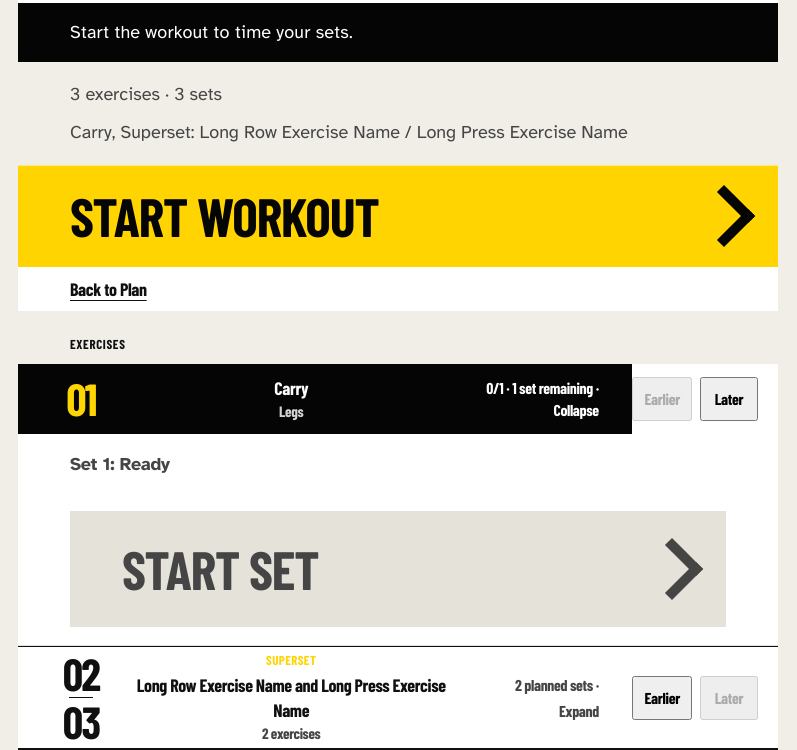
Scenario: keeps an expanded superset member with its occurrence across standalone moves in both directions
(page scrolled)
Step 1. Click the button with aria-label "Superset: Long Row Exercise Name and Long Press Exercise Nam" → click(325, 698), box [18,647,632,748]
(page scrolled)
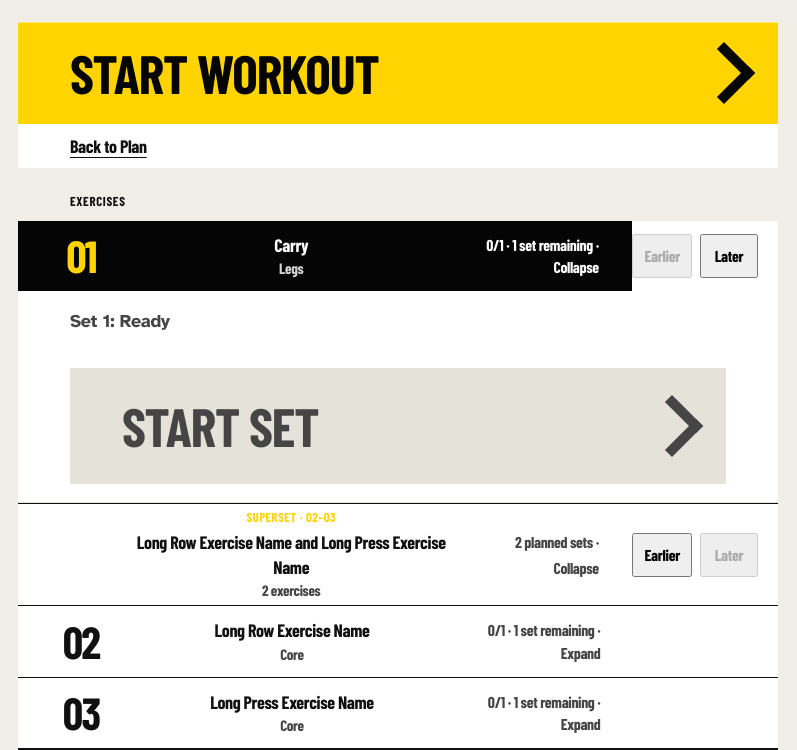
Step 2. Click the button with aria-label "Long Row Exercise Name, 0 of 1 confirmed, 1 set remaining, e" → click(326, 642), box [18,606,634,677]
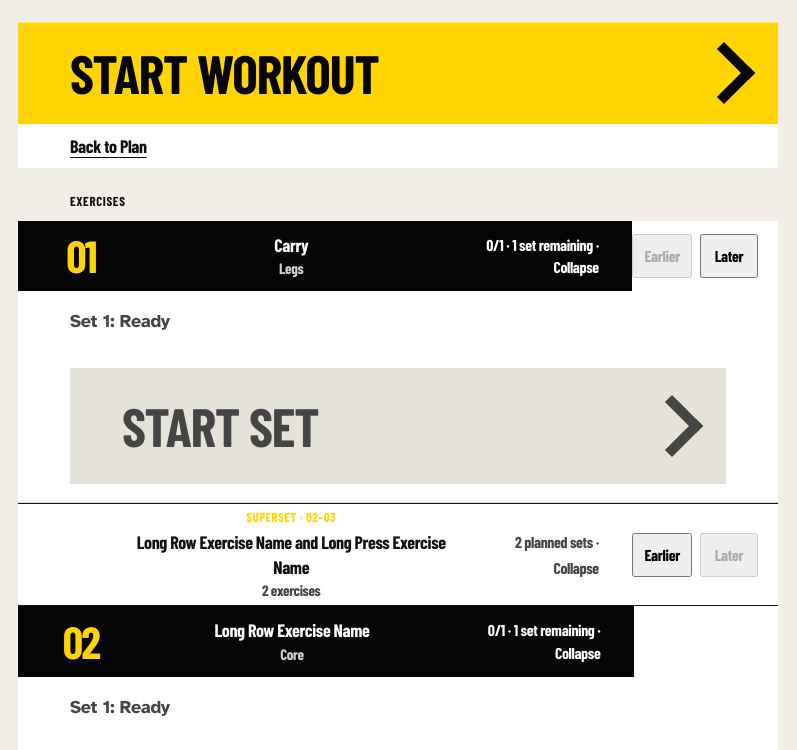
Result: the button with aria-label "Long Row Exercise Name, 0 of 1 confirmed, 1 set remaining, c" is expanded at [18,606,634,677]
Step 3. Click the button with aria-label "Move Carry later; position 1 of 2; available" → click(729, 256), box [700,234,758,278]
(page scrolled)
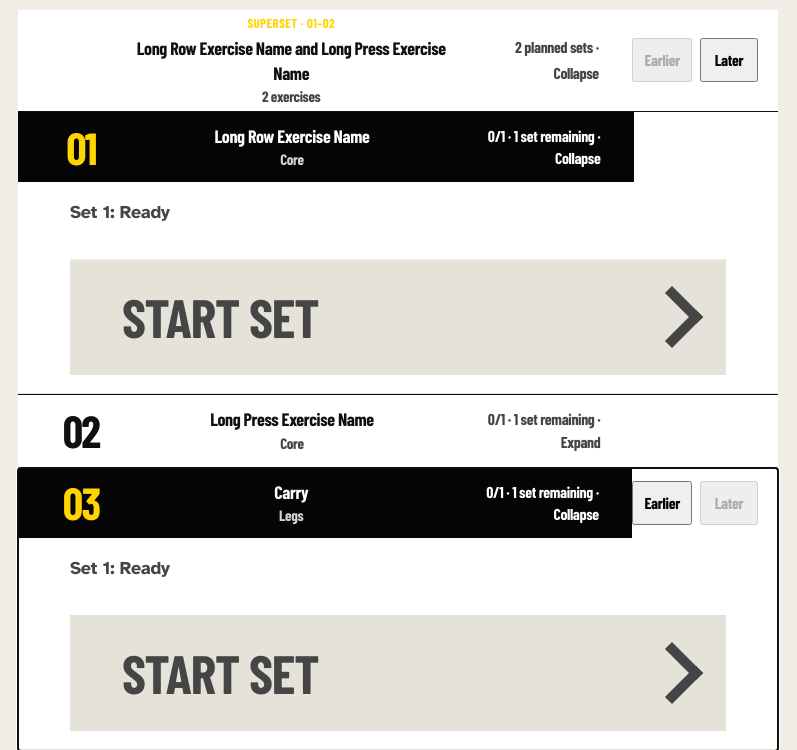
Result: the button with aria-label "Long Row Exercise Name, 0 of 1 confirmed, 1 set remaining, c" is expanded at [18,112,634,182]
Result: the button with aria-label "Move Carry earlier; position 2 of 2; available" is shown
Step 4. Click the button with aria-label "Move Carry earlier; position 2 of 2; available" → click(662, 503), box [632,481,692,525]
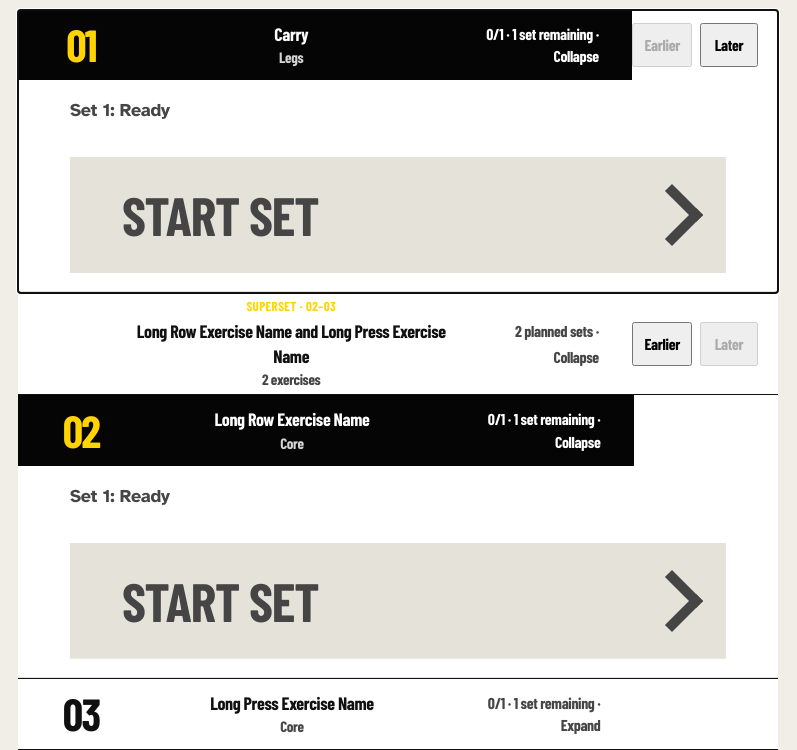
Result: the button with aria-label "Long Row Exercise Name, 0 of 1 confirmed, 1 set remaining, c" is expanded at [18,395,634,466]
Result: the button with aria-label "Move Carry later; position 1 of 2; available" is shown at [700,23,758,67]
